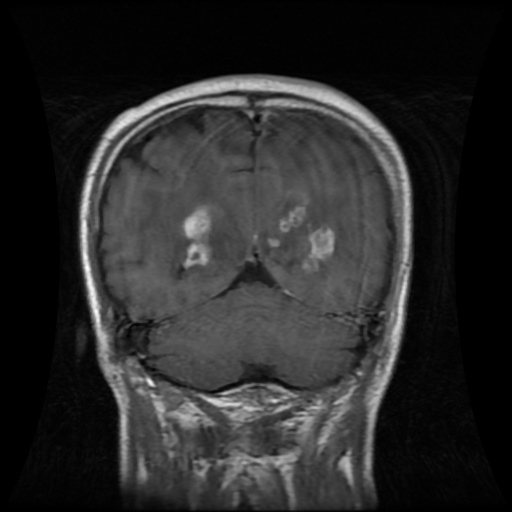glioma: (182, 205, 214, 269)
